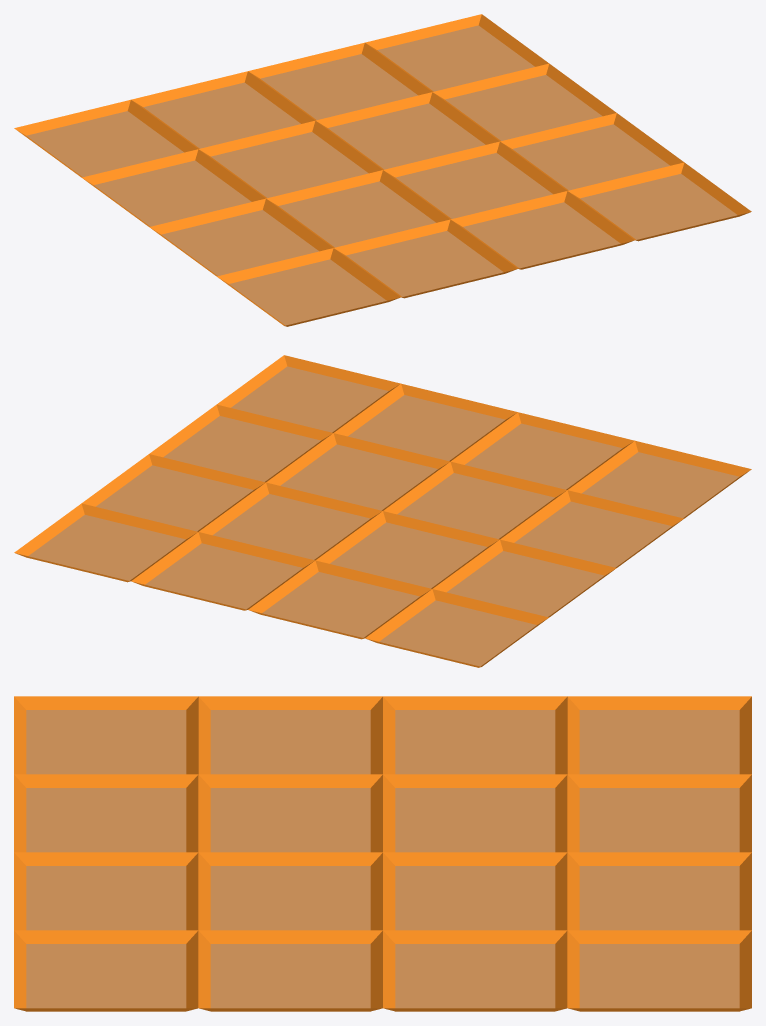
Rendered from SM_Cellling_Ornaments.fbx.
3 views of the same model, one above another, from view 1: azimuth 30°, elevation 25°; view 2: azimuth 150°, elevation 25°; view 3: azimuth 270°, elevation 25° (orthographic). The views are drawn at different scales.
Visible parts, largest first — view 1: SM_Cellling_Ornaments; view 2: SM_Cellling_Ornaments; view 3: SM_Cellling_Ornaments.
Part boxes in pixels (bbox=[...]): SM_Cellling_Ornaments: bbox=[14, 14, 751, 326]; SM_Cellling_Ornaments: bbox=[14, 355, 751, 667]; SM_Cellling_Ornaments: bbox=[14, 696, 751, 1011].
Size of the model in its own units: 200 by 2.5 by 200.
